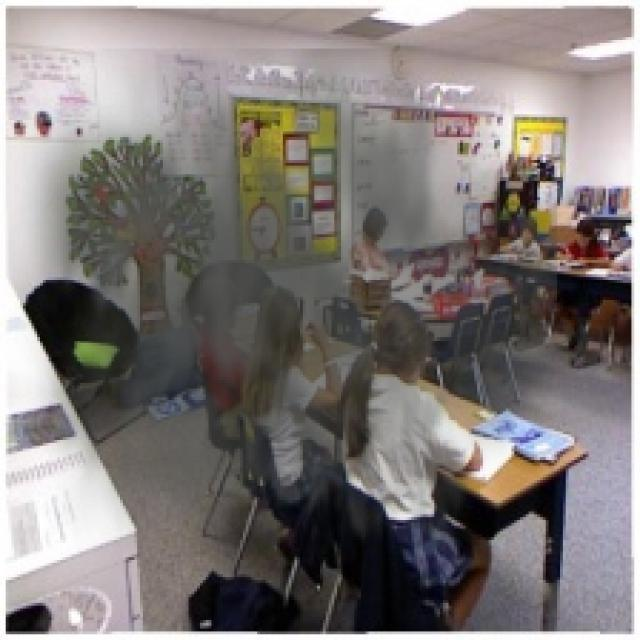Smoke: (2, 49, 558, 606)
